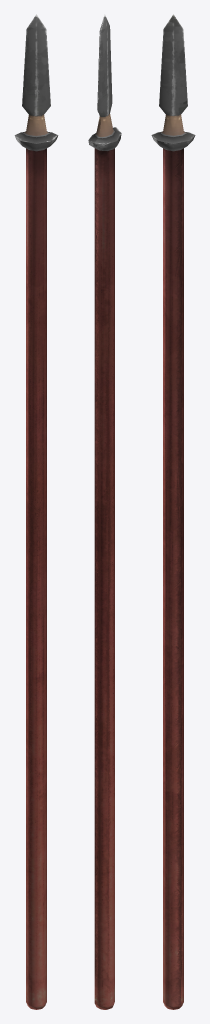
File: Spear.fbx
3 renders of one model, left to right at view 1: azimuth 90°, elevation 25°; view 2: azimuth 150°, elevation 25°; view 3: azimuth 270°, elevation 25°, orthographic.
Visible parts, largest first — view 1: Spear; view 2: Spear; view 3: Spear.
Boxes of the visible parts, bbox=[...] form: Spear: bbox=[14, 14, 58, 1009]; Spear: bbox=[88, 14, 121, 1009]; Spear: bbox=[151, 14, 195, 1009].
Size of the model in its own units: 6.72 by 257 by 10.32.
